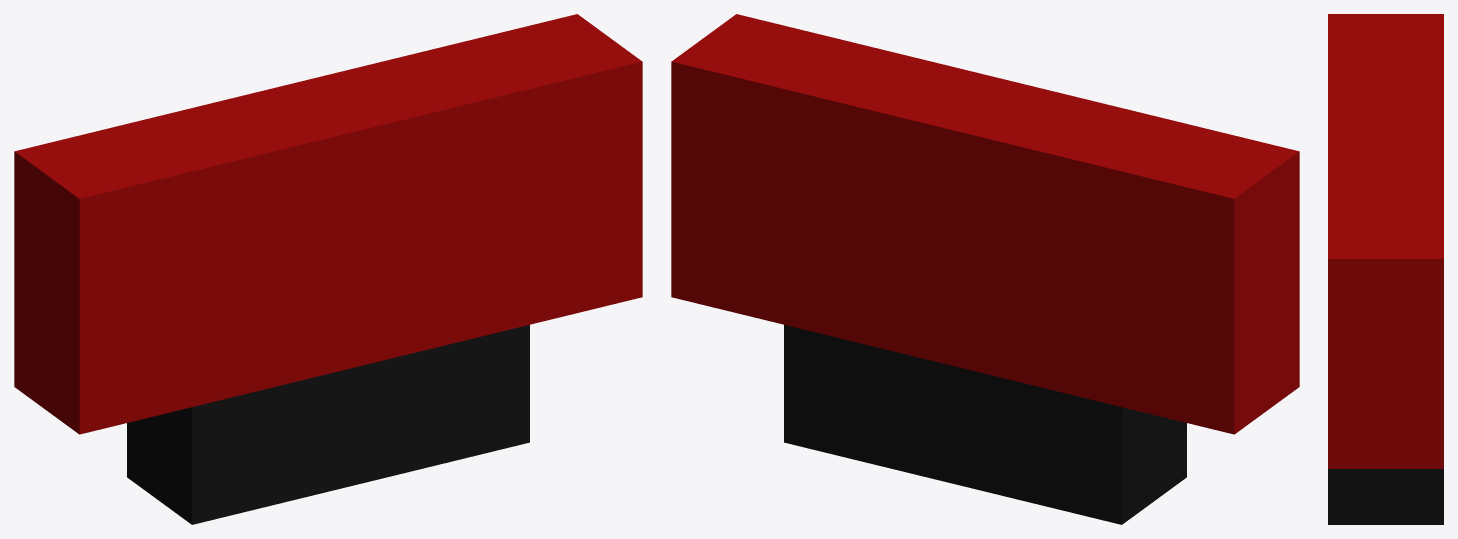
The model's file is devil_eyeR.fbx.
The picture shows the model from 3 angles, left to right: view 1: azimuth 30°, elevation 25°; view 2: azimuth 150°, elevation 25°; view 3: azimuth 270°, elevation 25°; orthographic projection. The views are drawn at different scales.
Parts seen in each view (by area): view 1: devil_eyeR; view 2: devil_eyeR; view 3: devil_eyeR.
Boxes of the visible parts, x1,y1,x2,y2 form: devil_eyeR: (14,14,642,524); devil_eyeR: (671,14,1299,524); devil_eyeR: (1328,14,1443,524).
Size of the model in its own units: 5 by 3 by 1.
Materials: 1 (1 with a texture image).
